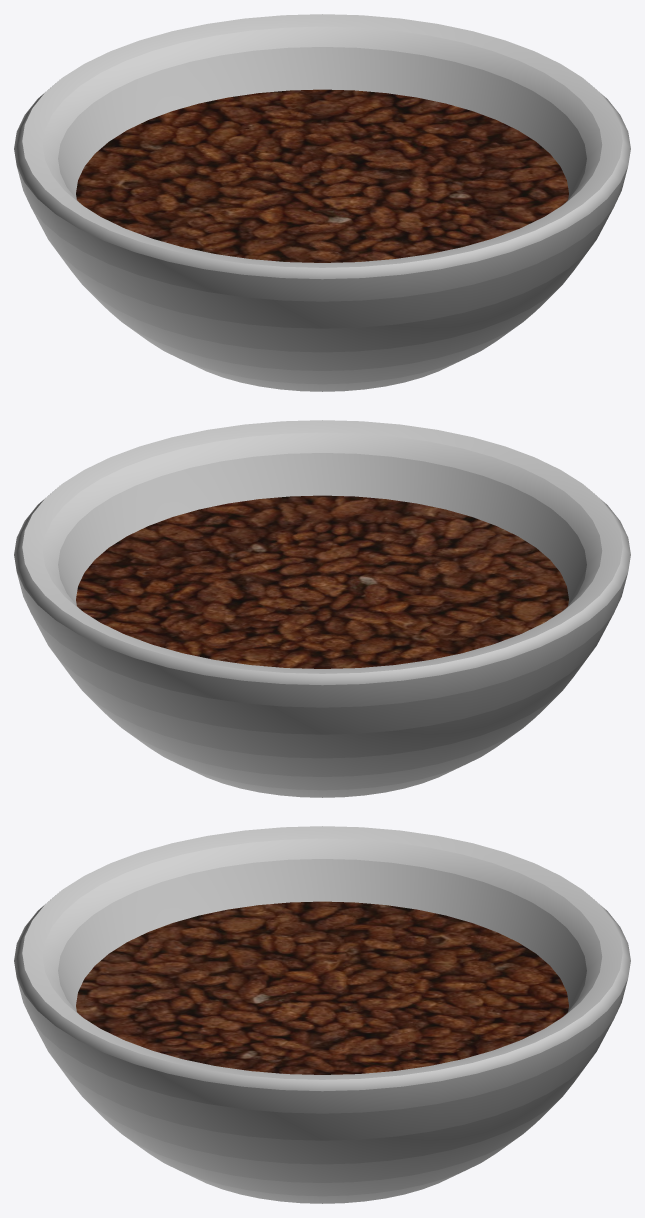
Rendered from CEREAL IN BOWL.fbx.
3 views of the same model, one above another, from view 1: azimuth 30°, elevation 25°; view 2: azimuth 150°, elevation 25°; view 3: azimuth 270°, elevation 25° (orthographic).
Parts seen in each view (by area): view 1: Bowl_Sphere, Circle; view 2: Bowl_Sphere, Circle; view 3: Bowl_Sphere, Circle.
Part boxes in pixels (x1,y1,x2,y2): Bowl_Sphere: (14,14,630,391); Circle: (76,89,568,262); Bowl_Sphere: (14,420,630,797); Circle: (76,495,568,668); Bowl_Sphere: (14,826,630,1203); Circle: (76,901,568,1074).
Bounding box in the file's own units: 15 × 6 × 15.
